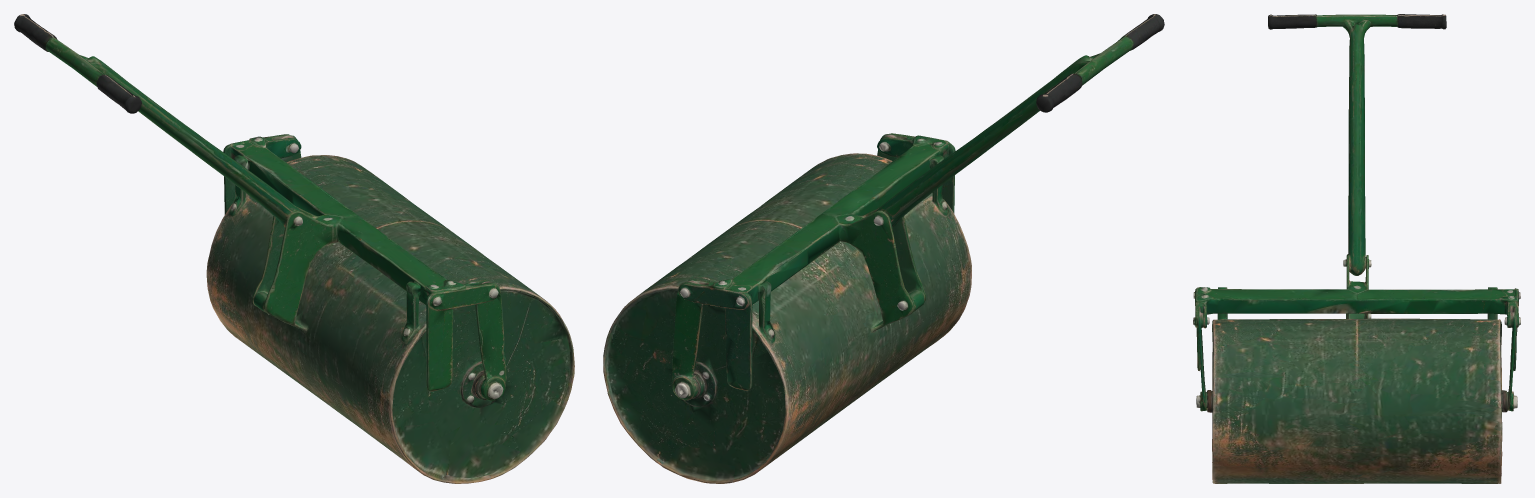
File: roller.glb
The picture shows the model from 3 angles, left to right: view 1: azimuth 30°, elevation 25°; view 2: azimuth 150°, elevation 25°; view 3: azimuth 270°, elevation 25°; orthographic projection. The views are drawn at different scales.
Bounding box in the file's own units: 1.89 × 1.9 × 1.65.
Materials: 1 (1 with a texture image).
